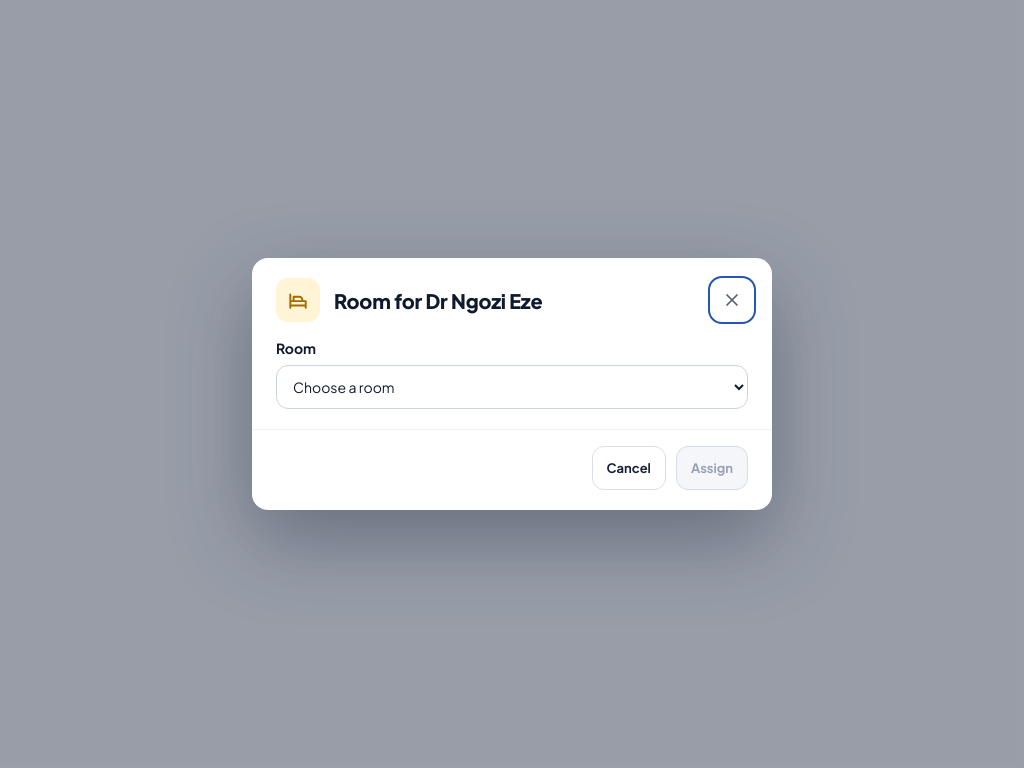
Test: MoveDialog › lists every preference the move gives up
Select "412 · Executive Suite, East F4" in the dropdown labelled "Room" at (512, 387), box x1=276 y1=365 x2=748 y2=409
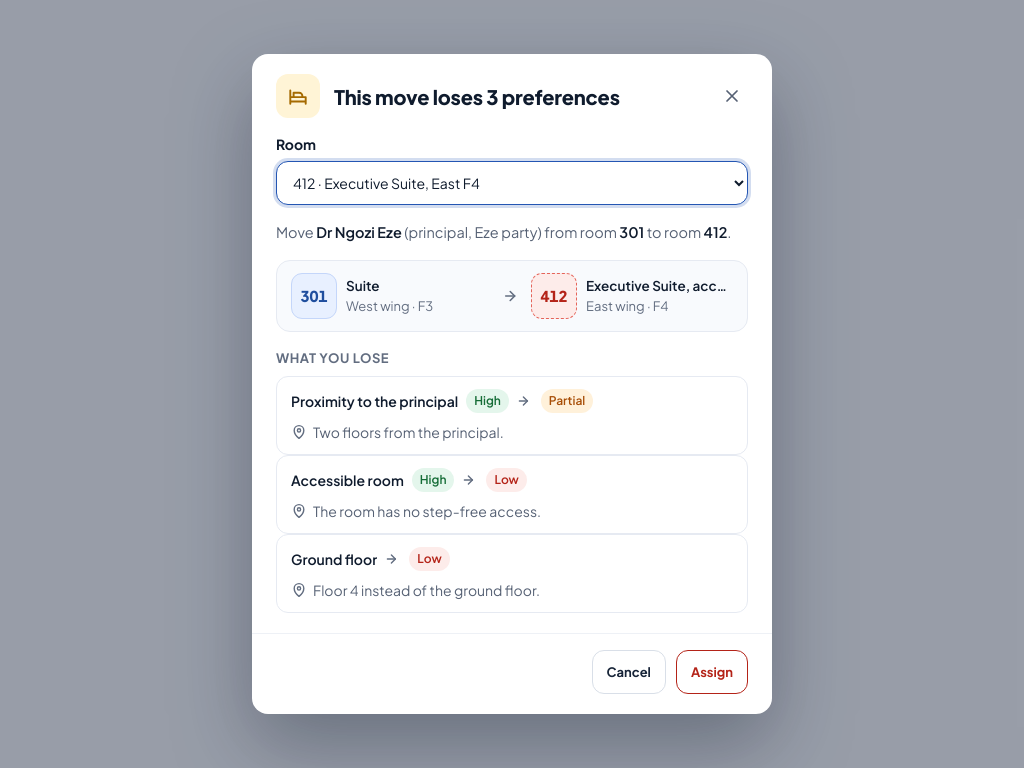
Expected: the heading "This move loses 3 preferences" is shown, x1=334 y1=84 x2=620 y2=109
Expected: the heading "WHAT YOU LOSE" is shown, x1=276 y1=350 x2=389 y2=366
Expected: the text "Proximity to the principal" is shown, x1=291 y1=391 x2=458 y2=411
Click the button "Assign" at (712, 672), box x1=676 y1=650 x2=748 y2=694
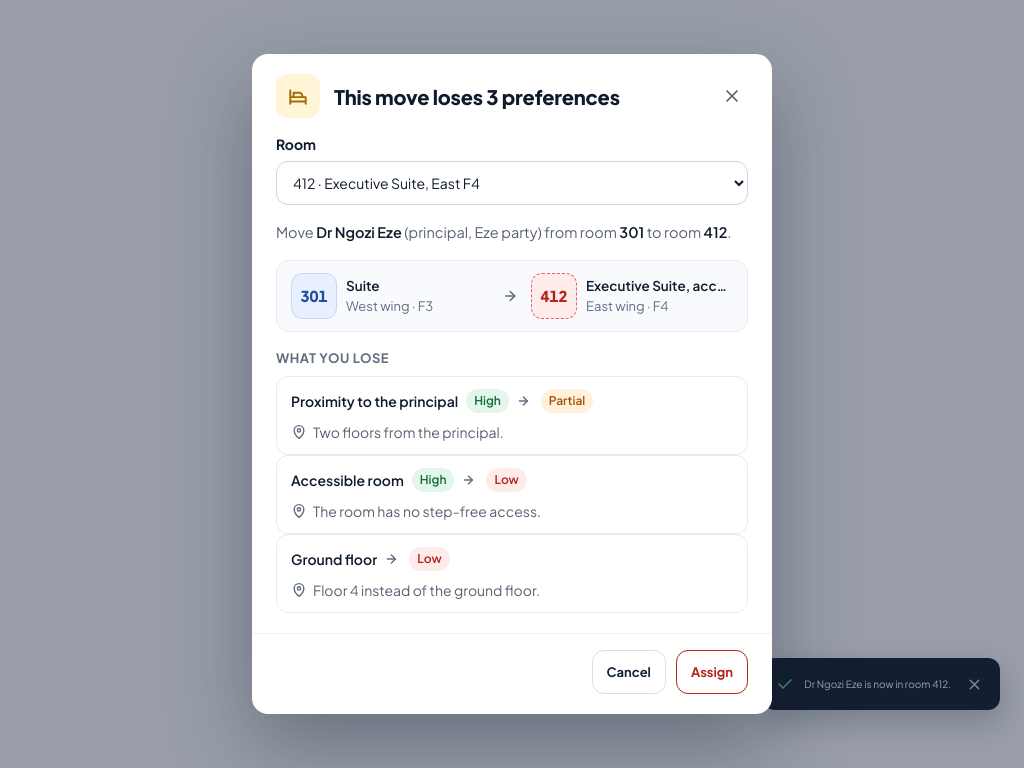
Expected: the text "Dr Ngozi Eze is now in room 412." is shown, x1=804 y1=674 x2=951 y2=694
